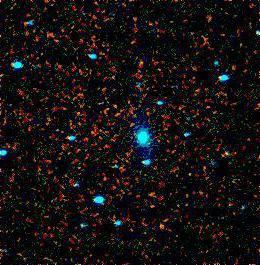star: (147, 212, 177, 242)
